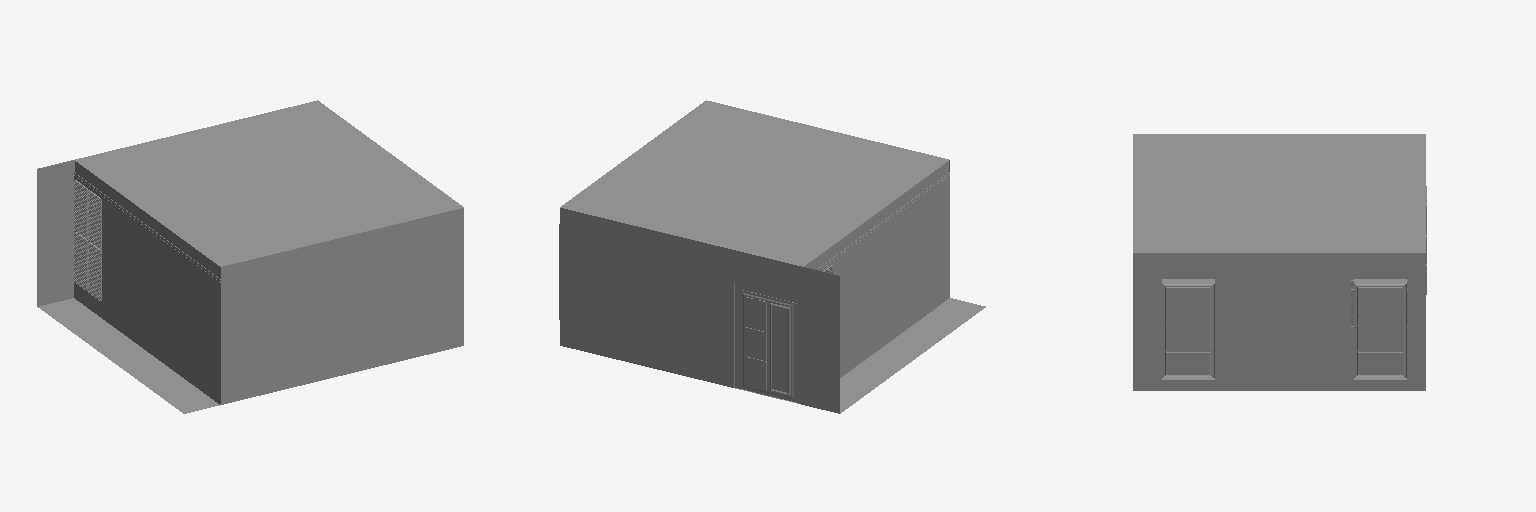
Rendered from bedroom8_layout.obj.
3 renders of one model, left to right at view 1: azimuth 30°, elevation 25°; view 2: azimuth 150°, elevation 25°; view 3: azimuth 270°, elevation 25°, orthographic.
Parts seen in each view (by area): view 1: wall.014, ceiling.004, floor.005, cupboard.003; view 2: wall.014, ceiling.004, door.005, floor.005; view 3: ceiling.004, wall.013, wall.012, window.005, window.006.
Boxes of the visible parts, box(x1,y1,x2,y2) form: wall.014: box(37, 160, 463, 404); ceiling.004: box(75, 100, 463, 266); floor.005: box(38, 298, 219, 413); cupboard.003: box(74, 178, 102, 316); wall.014: box(560, 160, 949, 413); ceiling.004: box(560, 100, 948, 266); door.005: box(734, 283, 800, 403); floor.005: box(737, 298, 985, 413); ceiling.004: box(1133, 134, 1425, 252); wall.013: box(1133, 253, 1425, 390); wall.012: box(1133, 253, 1214, 390); window.005: box(1162, 283, 1214, 377); window.006: box(1354, 283, 1406, 377).
Size of the model in its own units: 6.99 by 3.18 by 6.11.